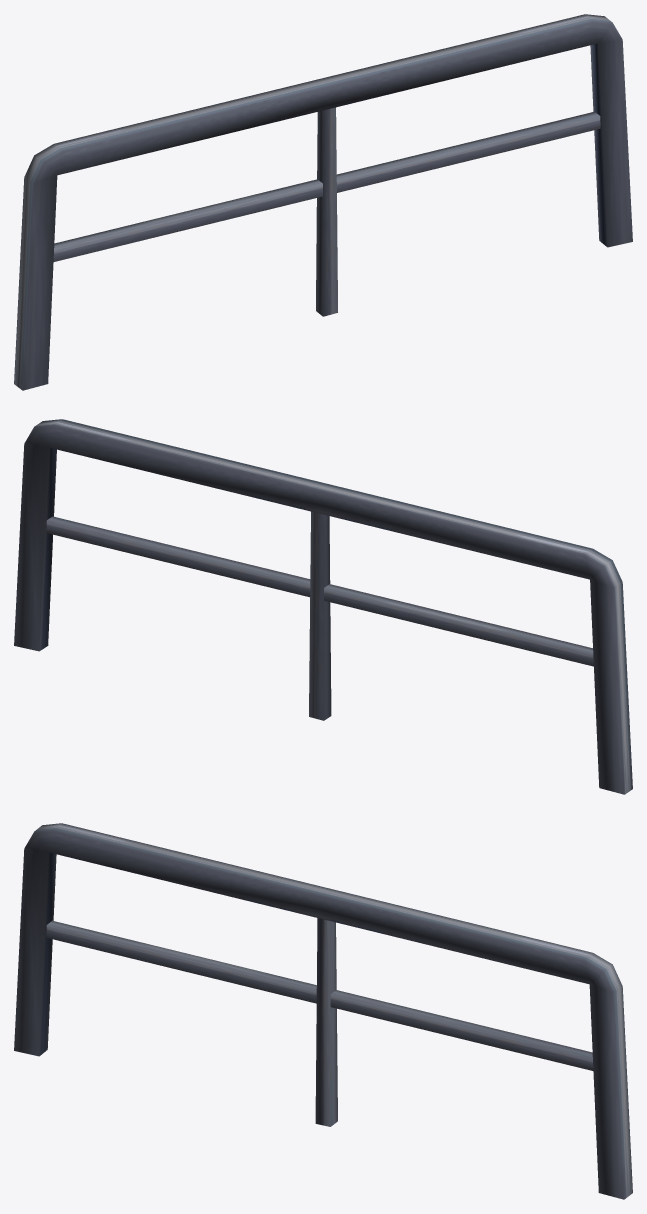
The picture shows the model from 3 angles, top to bottom: view 1: azimuth 30°, elevation 25°; view 2: azimuth 150°, elevation 25°; view 3: azimuth 330°, elevation 25°; orthographic projection.
Parts seen in each view (by area): view 1: wq_wj008_01; view 2: wq_wj008_01; view 3: wq_wj008_01.
Boxes of the visible parts, left/top/right/bottom form: wq_wj008_01: left=14, top=14, right=632, bottom=390; wq_wj008_01: left=14, top=419, right=632, bottom=794; wq_wj008_01: left=14, top=823, right=632, bottom=1199.
Bounding box in the file's own units: 241 × 87.16 × 5.83.
1 material, 1 textured.
